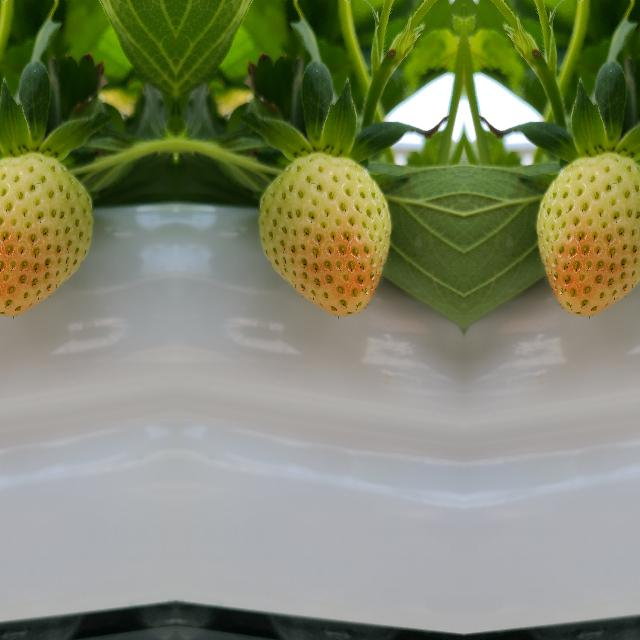Health_50: (257, 152, 391, 318), (535, 152, 640, 318), (0, 152, 93, 318)
